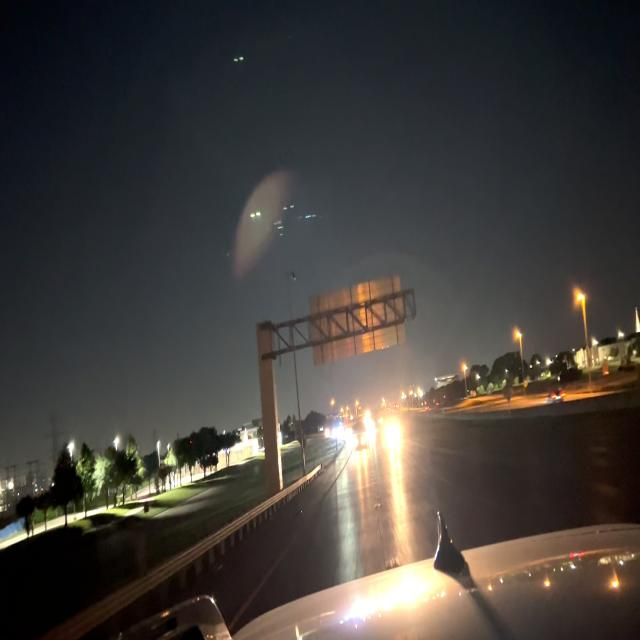back-of-sign: (309, 274, 407, 365)
